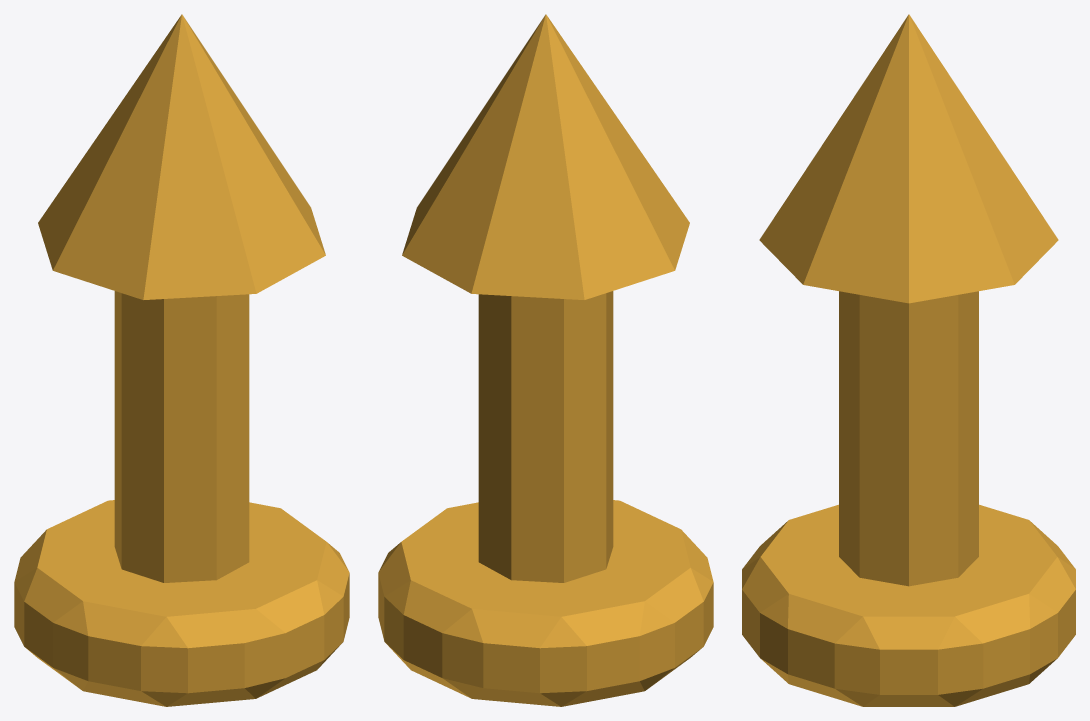
The model's file is table_marker.glb.
3 renders of one model, left to right at view 1: azimuth 30°, elevation 25°; view 2: azimuth 150°, elevation 25°; view 3: azimuth 270°, elevation 25°, orthographic.
Visible parts, largest first — view 1: table_marker; view 2: table_marker; view 3: table_marker.
Part boxes in pixels (x1,y1,x2,y2): table_marker: [14, 14, 349, 706]; table_marker: [378, 14, 713, 706]; table_marker: [742, 14, 1075, 706].
Bounding box in the file's own units: 0.0666 × 0.14 × 0.0669.
